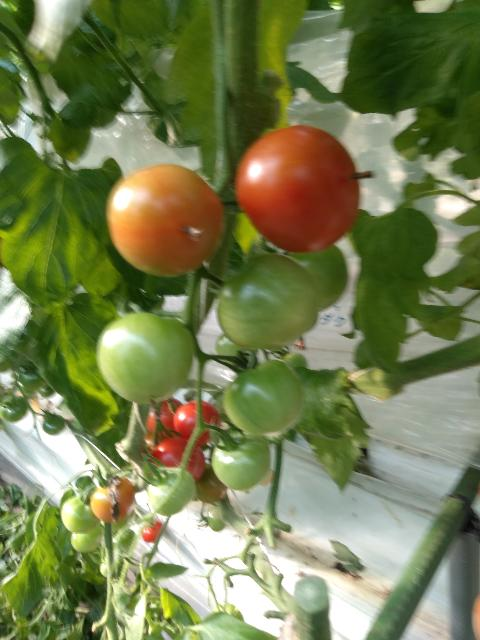l_fully_ripened: (236, 124, 360, 255), (149, 435, 205, 484), (173, 400, 220, 446), (146, 397, 185, 440), (141, 521, 162, 543)
l_green: (217, 252, 319, 351), (96, 311, 193, 404), (223, 359, 304, 437), (281, 244, 347, 313), (212, 430, 271, 493), (147, 468, 196, 516), (215, 332, 259, 368), (61, 496, 100, 535), (194, 463, 227, 503), (20, 358, 49, 392), (70, 523, 101, 553), (0, 395, 27, 423), (42, 414, 65, 436), (277, 352, 307, 368), (207, 506, 226, 531)
l_half_ripened: (106, 163, 226, 278), (91, 477, 134, 524)
